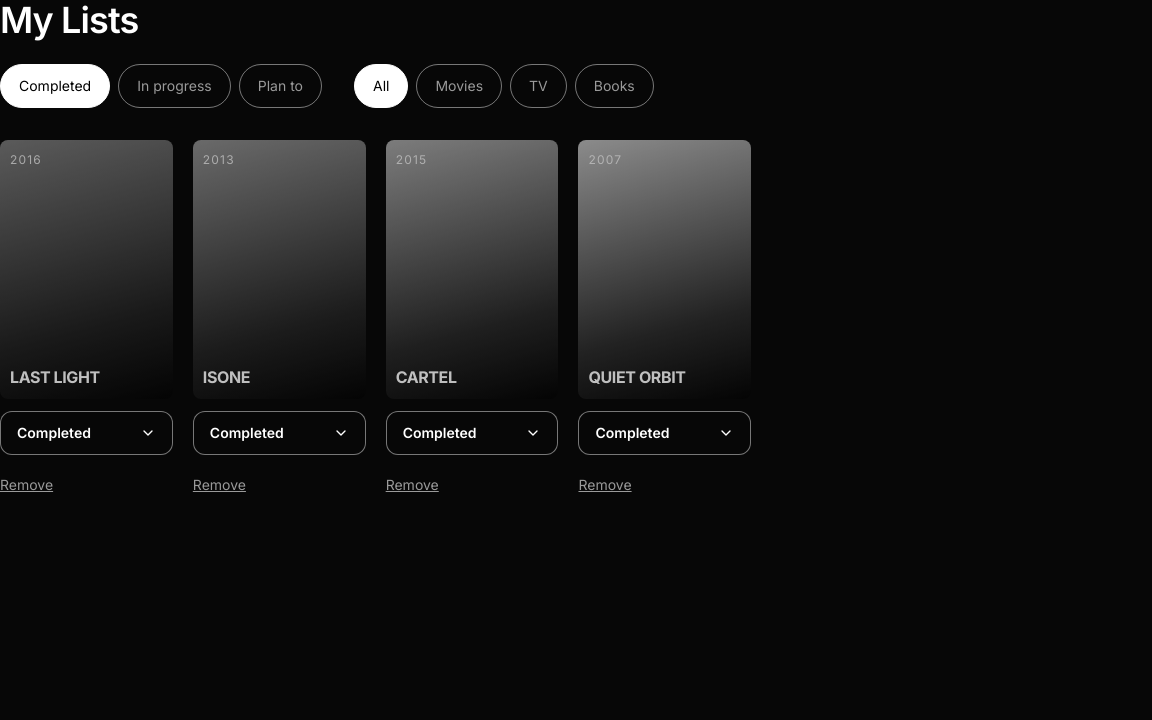
Test case: MyLists › confirming remove deletes the entry once
The width and height of the screenshot is (1152, 720).
Check: the link "2016 Last Light" is shown, box 0,140 -> 173,399
What coordinates should you click on to do the following:
click the button "Remove" below "Last Light"
I would click on:
 (86, 485)
Its box is 0,463 -> 173,507.
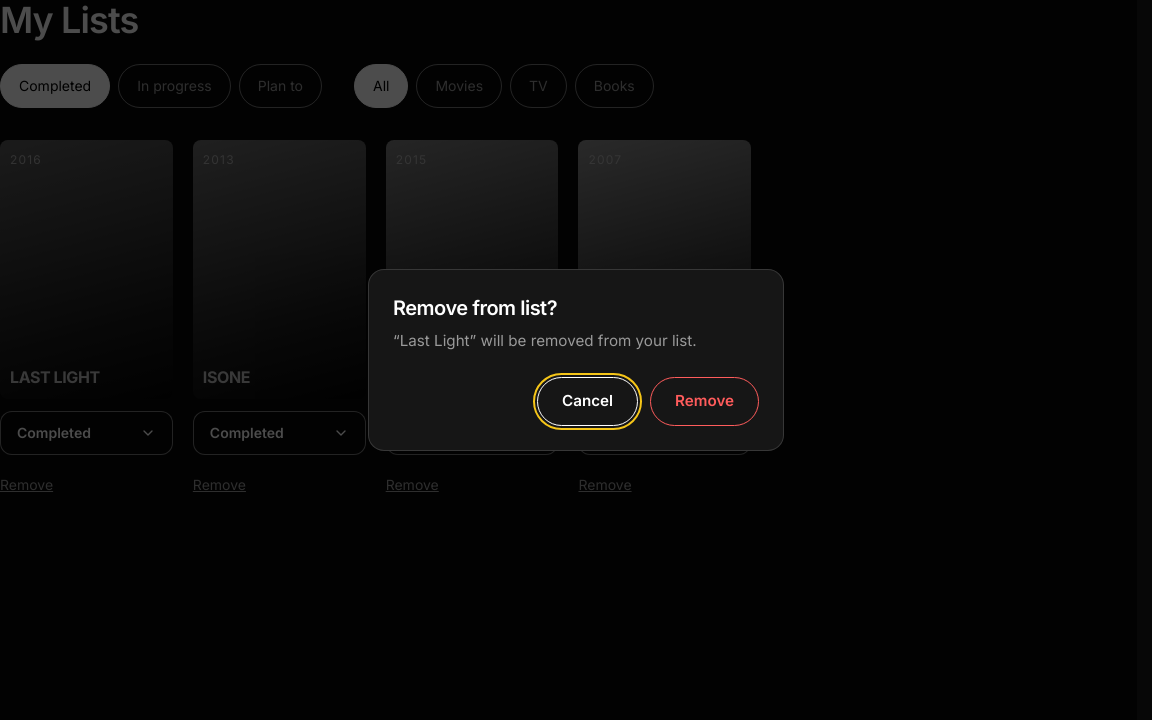
What coordinates should you click on to do the following:
click the button "Remove"
I would click on:
 (704, 401)
Its box is 650,377 -> 759,426.
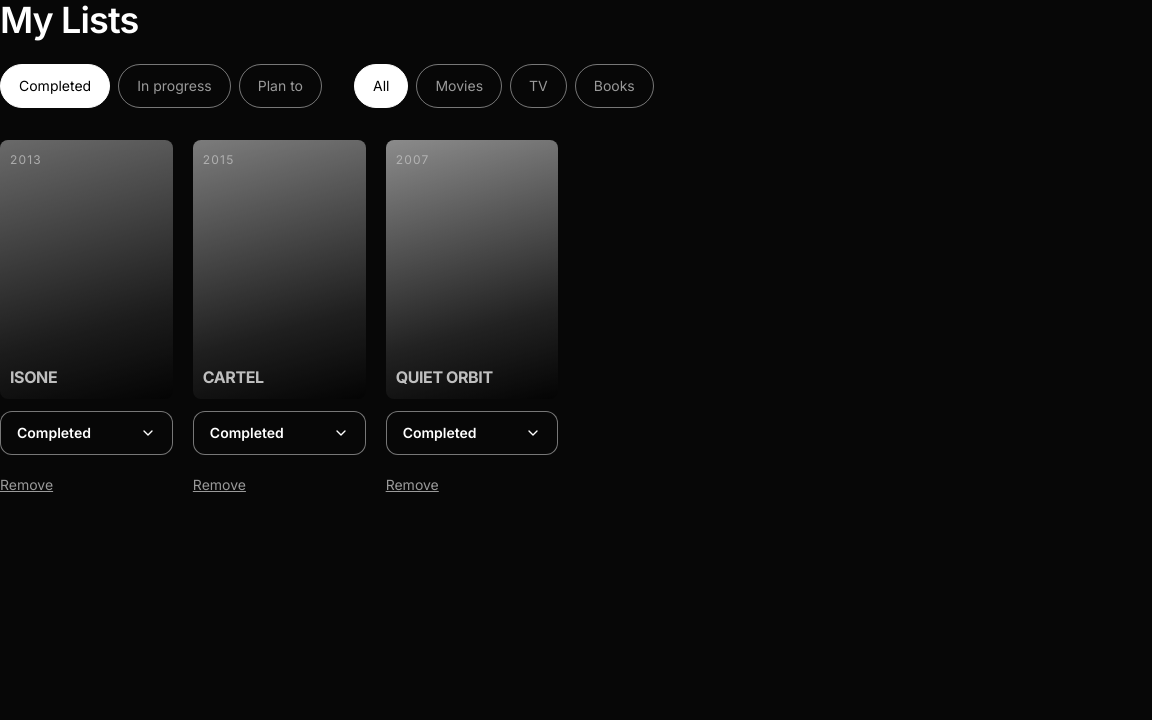
Check: the link "2016" is gone
